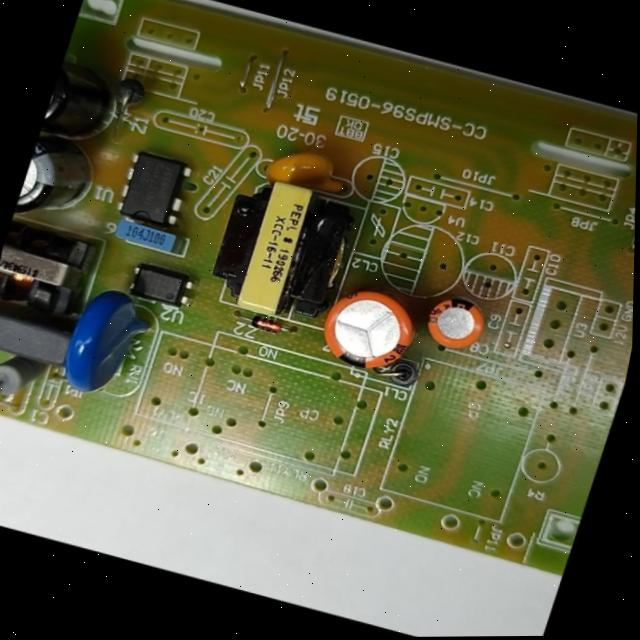Cap1: (311, 275, 428, 384)
Cap2: (415, 287, 497, 358)
Cap3: (12, 134, 104, 234)
Cap4: (39, 55, 129, 154)
MOSFET: (108, 146, 202, 233)
Mov: (51, 280, 164, 413)
Resistor: (0, 348, 52, 408)
Transformer: (197, 167, 370, 333), (0, 217, 101, 325)
